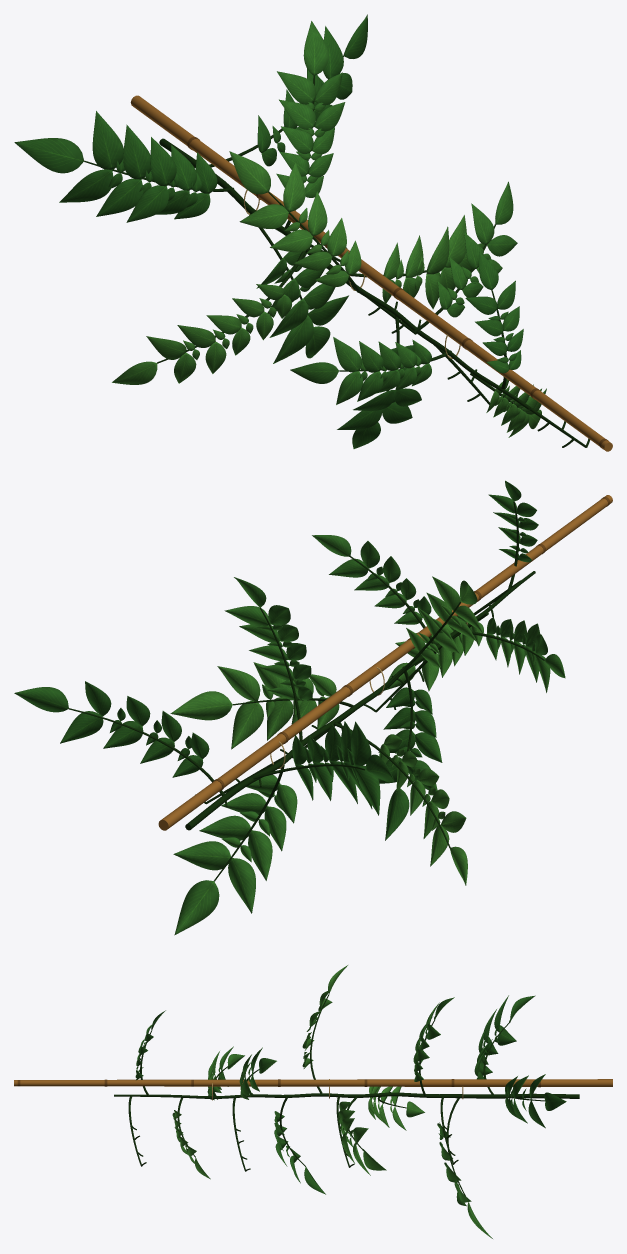
The model's file is tomato_plant_a.obj.
The picture shows the model from 3 angles, top to bottom: view 1: azimuth 30°, elevation 25°; view 2: azimuth 150°, elevation 25°; view 3: azimuth 270°, elevation 25°; orthographic projection. The views are drawn at different scales.
Visible parts, largest first — view 1: stake, stem, leaflet.019, leaflet.018, leaflet.017, leaflet.016, leaflet.015, leaflet.068, leaflet.039, leaflet.013, leaflet.014, leaflet.027 (+16 smaller); view 2: stake, stem, leaflet.028, leaflet.059, leaflet.026, leaflet.027, leaflet.058, leaflet.008, leaflet.024, leaflet.025, leaflet.057, leaflet.007 (+7 smaller); view 3: stake, stem.
Boxes of the visible parts, x1,y1,x2,y2 form: stake: [130, 95, 612, 451]; stem: [159, 138, 530, 410]; leaflet.019: [14, 138, 83, 173]; leaflet.018: [92, 111, 123, 170]; leaflet.017: [59, 169, 113, 202]; leaflet.016: [123, 124, 152, 179]; leaflet.015: [96, 178, 143, 216]; leaflet.068: [229, 151, 270, 194]; leaflet.039: [303, 21, 328, 75]; leaflet.013: [126, 185, 168, 222]; leaflet.014: [150, 137, 176, 186]; leaflet.027: [273, 315, 313, 363]; stake: [158, 495, 612, 830]; stem: [185, 571, 535, 830]; leaflet.028: [174, 880, 219, 935]; leaflet.059: [170, 691, 232, 720]; leaflet.026: [173, 841, 230, 870]; leaflet.027: [228, 858, 255, 913]; leaflet.058: [231, 701, 263, 749]; leaflet.008: [14, 687, 68, 712]; leaflet.024: [199, 815, 251, 840]; leaflet.025: [248, 830, 272, 880]; leaflet.057: [217, 666, 260, 701]; leaflet.007: [60, 711, 103, 743]; stake: [14, 1079, 612, 1086]; stem: [114, 1092, 579, 1098].
Size of the model in its own units: 0.8302 by 0.7677 by 1.8.
Materials: 7 (3 with a texture image).
